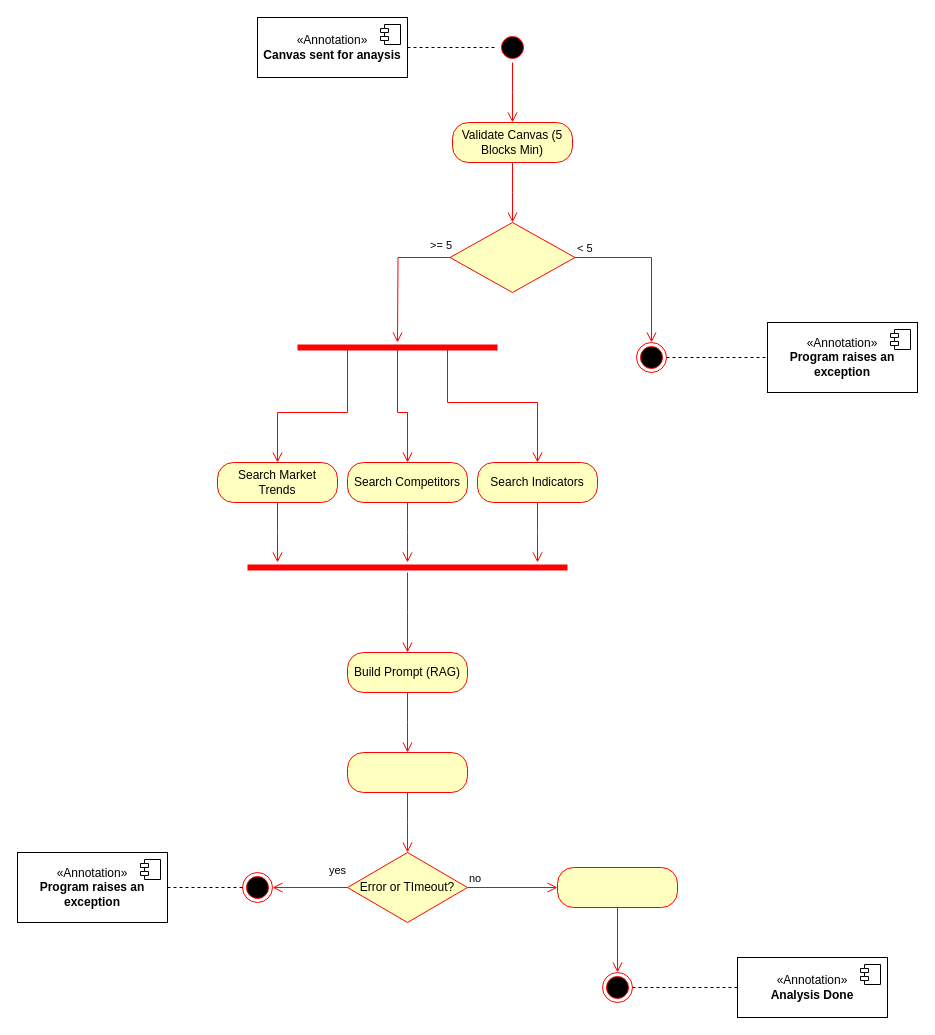
Image size: 935x1035. Some labels were removed from this diagram. The shapes that lost their labels are listed below. From the top down, each one's box as (x1, y1, x2, y2) in pixels, then its label:
(449, 222, 575, 292): Valid Canvas?
(346, 752, 468, 792): Send to LLM
(556, 866, 678, 908): JSON Parse Answer
